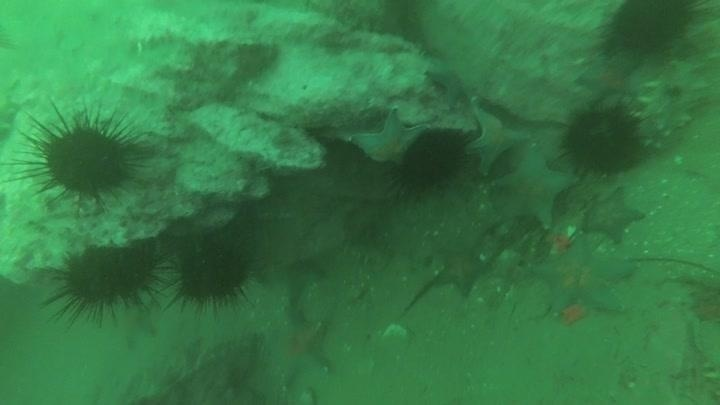echinus: (12, 101, 147, 211), (48, 240, 166, 324), (169, 235, 256, 312), (559, 102, 646, 178), (393, 126, 473, 197), (602, 1, 699, 58)
holothurian: (634, 56, 712, 151)
starfish: (529, 234, 635, 322), (491, 147, 577, 231), (263, 308, 335, 388), (347, 107, 431, 168), (465, 106, 529, 178), (580, 184, 646, 245), (575, 53, 644, 104), (431, 241, 493, 295), (424, 63, 474, 111)
